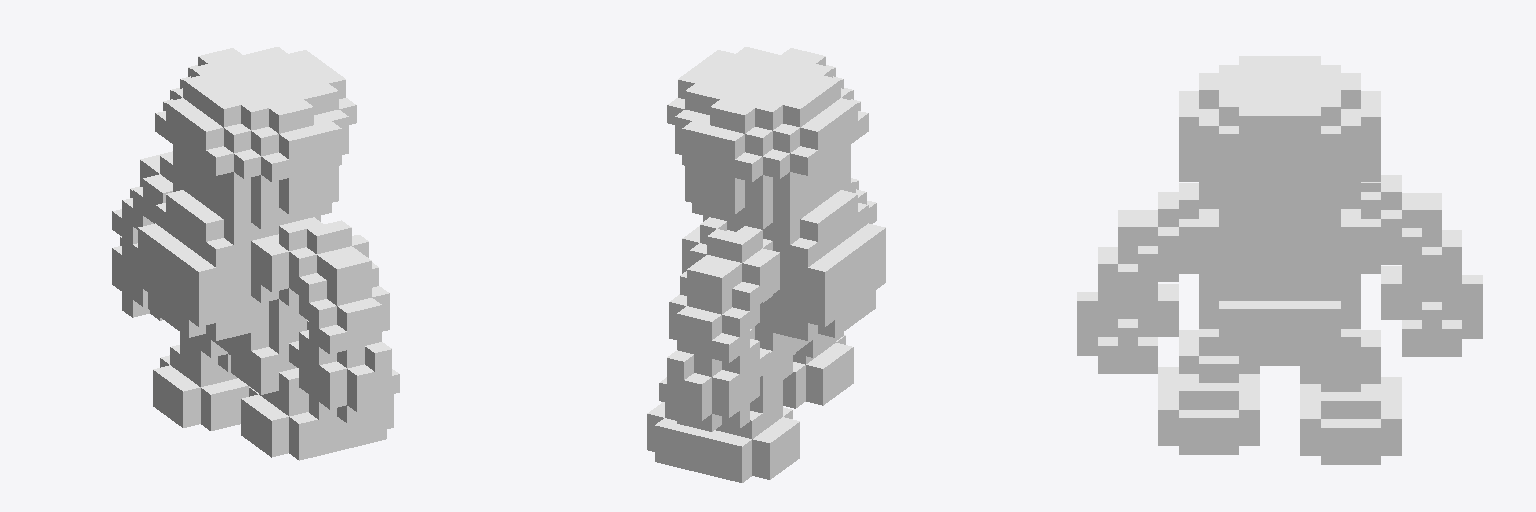
The model's file is PlayerWalkAnim-3.obj.
3 views of the same model, side by side, from view 1: azimuth 30°, elevation 25°; view 2: azimuth 150°, elevation 25°; view 3: azimuth 270°, elevation 25° (orthographic).
Size of the model in its own units: 10 by 19 by 20.